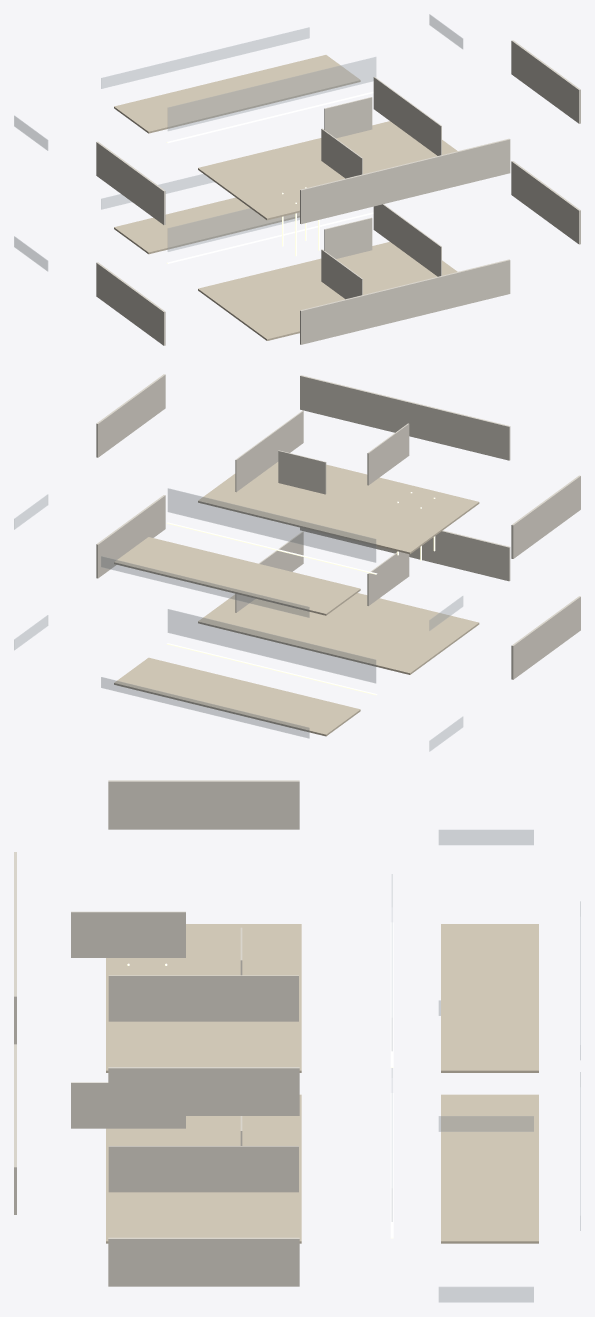
Rendered from sky-villa.glb.
3 renders of one model, top to bottom at view 1: azimuth 30°, elevation 25°; view 2: azimuth 150°, elevation 25°; view 3: azimuth 270°, elevation 25°, orthographic. The views are drawn at different scales.
Visible parts, largest first — view 1: Cube, Cube.013, Cube.014, Cube.002, Cube.015, Cube.018, Cube.001, Cube.004, Cube.003, Cube.016, Cube.017, Cube.005 (+10 smaller); view 2: Cube.013, Cube, Cube.014, Cube.001, Cube.015, Cube.005, Cube.018, Cube.002, Cube.004, Cube.016, Cube.017, Cube.022 (+9 smaller); view 3: Cube.013, Cube.001, Cube.014, Cube, Cube.003, Cube.017, Cube.016, Cube.020, Cube.007, Cube.019, Cube.006, Cube.011 (+2 smaller).
Boxes of the visible parts, x1,y1,x2,y2 form: Cube: (198,242,457,340); Cube.013: (198,121,457,220); Cube.014: (114,55,360,133); Cube.002: (300,259,510,344); Cube.015: (300,138,510,224); Cube.018: (168,57,375,130); Cube.001: (114,197,299,254); Cube.004: (96,262,165,345); Cube.003: (511,161,580,244); Cube.016: (511,40,580,123); Cube.017: (96,141,165,224); Cube.005: (168,208,299,251); Cube.013: (198,462,479,554); Cube: (198,593,479,674); Cube.014: (114,537,360,615); Cube.001: (114,657,360,736); Cube.015: (300,375,510,460); Cube.005: (168,609,375,683); Cube.018: (168,488,375,562); Cube.002: (300,527,510,581); Cube.004: (511,596,580,679); Cube.016: (96,374,165,457); Cube.017: (511,475,580,558); Cube.022: (101,556,309,617); Cube.013: (106,924,301,1072); Cube.001: (441,1094,538,1243); Cube.014: (441,924,538,1072); Cube: (106,1094,301,1243); Cube.003: (108,1237,299,1286); Cube.017: (108,780,299,829); Cube.016: (108,1067,299,1115); Cube.020: (108,975,298,1021); Cube.007: (108,1146,298,1192); Cube.019: (71,911,185,957); Cube.006: (71,1082,185,1128); Cube.011: (439,1287,533,1302).
Size of the model in its own units: 18.08 by 7.21 by 15.05.
